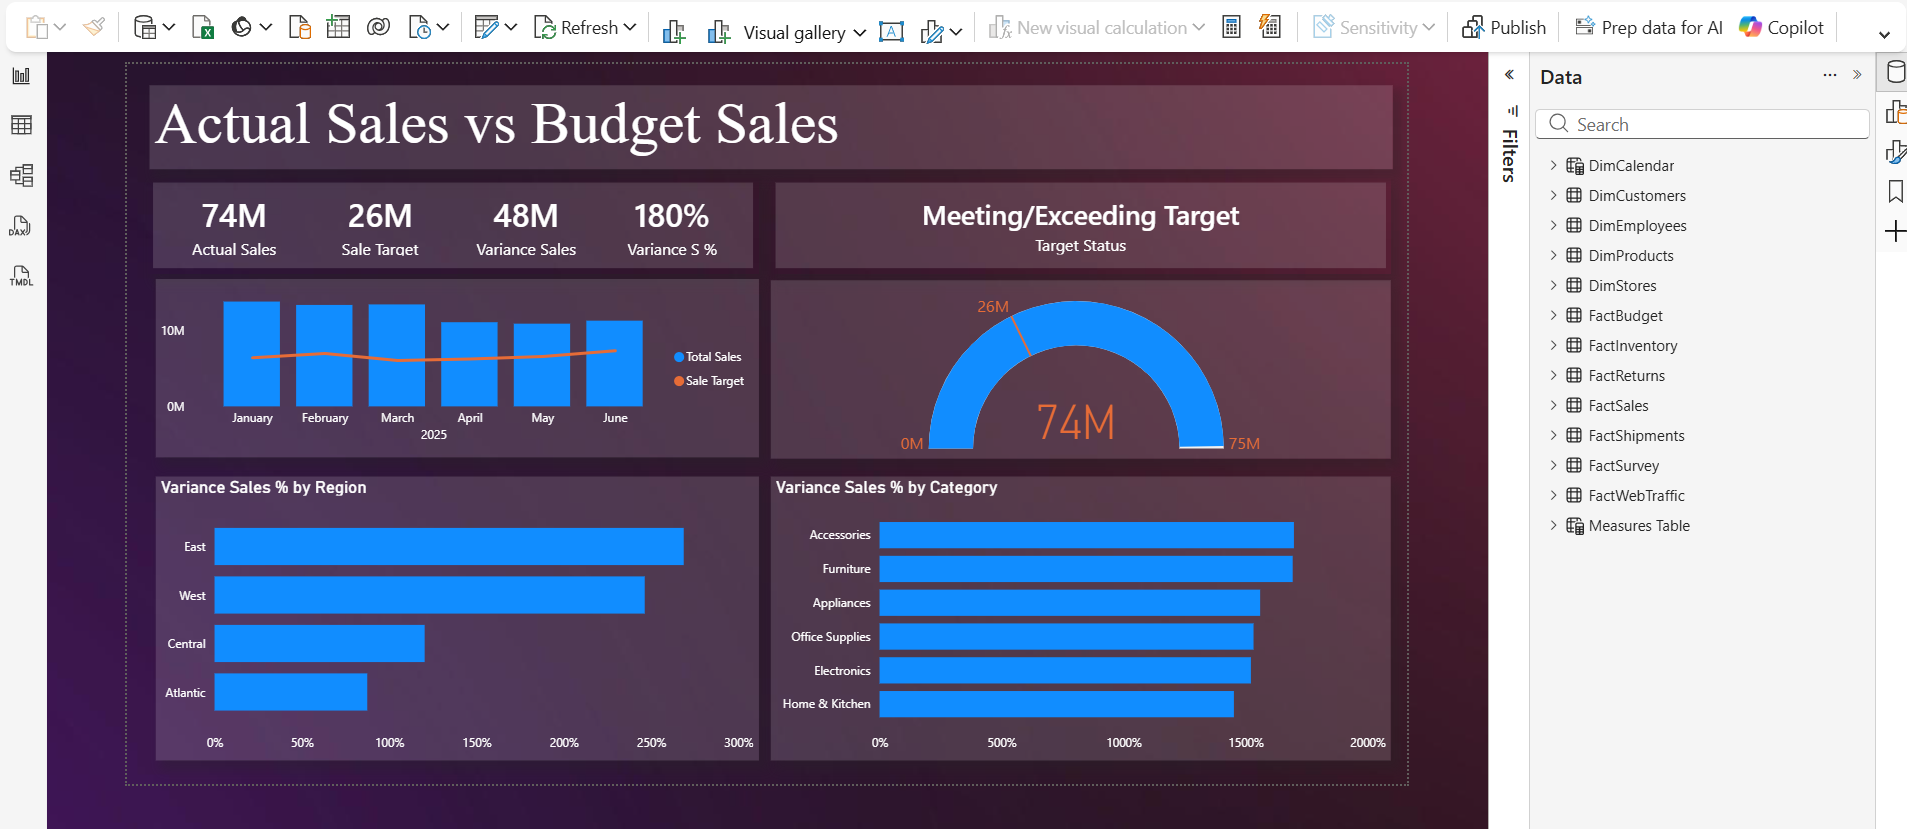

The dashboard page shown, as its layout file describes it:
{"tool":"powerbi","page":{"name":"Budget vs Actual Sales","canvas":[1280,720],"ordinal":5},"visuals":[{"type":"cardVisual","fields":{"Data":["Measures Table.Total Sales","Measures Table.Sale Target","Measures Table.Variance","Measures Table.Variance %"]},"box":[21.4,114.3,610,95.7],"z":0},{"type":"textbox","box":[22.9,21.4,1242.9,84.3],"z":1000},{"type":"cardVisual","fields":{"Data":["Measures Table.Target Status"]},"box":[644.3,114.3,620,95.7],"z":2000},{"type":"lineClusteredColumnComboChart","title":"Actual Sale vs Target Sale","fields":{"Category":["DimCalendar.Date.Variation.Date Hierarchy.Year","DimCalendar.Date.Variation.Date Hierarchy.Month"],"Y":["Measures Table.Total Sales"],"Y2":["Measures Table.Sale Target"]},"box":[28.6,215.1,602.9,178.6],"z":3000},{"type":"clusteredBarChart","fields":{"Y":["Measures Table.Variance Sales %"],"Category":["DimStores.Region"]},"box":[28.6,412.9,602.9,284.3],"z":4000},{"type":"clusteredBarChart","fields":{"Y":["Measures Table.Variance Sales %"],"Category":["FactBudget.Category"]},"box":[644.3,412.9,620,284.3],"z":5000},{"type":"gauge","title":"Actual Sales and Sales Target","fields":{"Y":["Measures Table.Total Sales"],"TargetValue":["Measures Table.Sale Target"]},"box":[644.3,215.7,620,178.6],"z":6000}]}

Visuals, with their boxes on the page's 1280x720 design canvas (x1, y1, x2, y2). These are canvas units, not pixel positions in the 1907x829 screenshot, which may show the page scaled, cropped or inside an application window:
cardVisual - Measures Table.Total Sales x Measures Table.Sale Target: detection(21, 114, 631, 210)
textbox: detection(23, 21, 1266, 106)
cardVisual - Measures Table.Target Status: detection(644, 114, 1264, 210)
"Actual Sale vs Target Sale" lineClusteredColumnComboChart: detection(29, 215, 632, 394)
clusteredBarChart - Measures Table.Variance Sales % x DimStores.Region: detection(29, 413, 632, 697)
clusteredBarChart - Measures Table.Variance Sales % x FactBudget.Category: detection(644, 413, 1264, 697)
"Actual Sales and Sales Target" gauge: detection(644, 216, 1264, 394)
